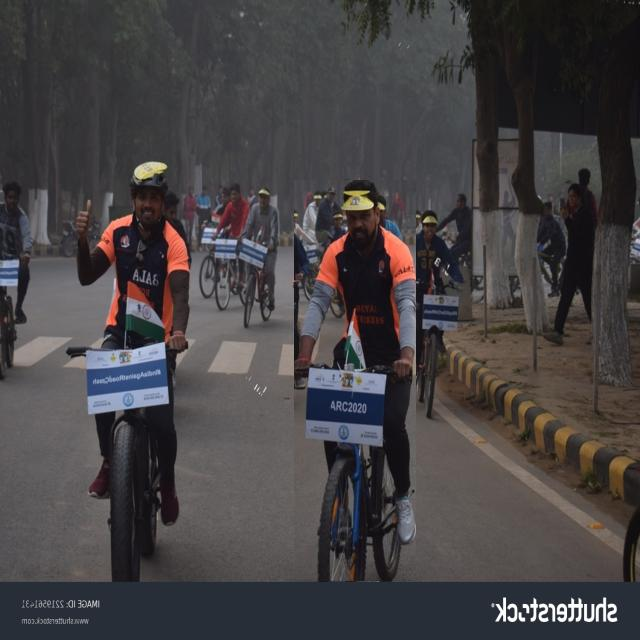bicycle: (294, 180, 416, 581), (76, 162, 189, 580), (400, 211, 464, 417), (239, 187, 279, 327), (215, 184, 250, 310)
